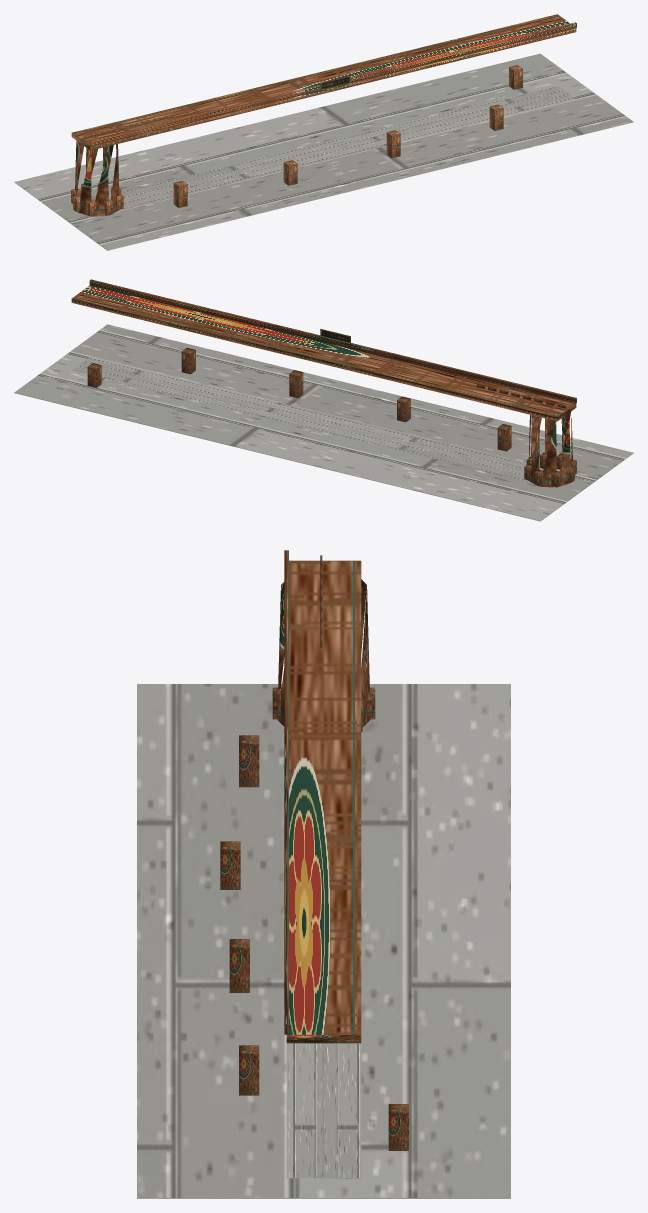
3 renders of one model, top to bottom at view 1: azimuth 30°, elevation 25°; view 2: azimuth 150°, elevation 25°; view 3: azimuth 270°, elevation 25°, orthographic. The views are drawn at different scales.
Parts seen in each view (by area): view 1: 11140_02_04536_043_01_L2__base, 11140_02_04536_043_02_L2__body, 11140_02_04536_043_06_L2__green, 11140_02_04536_043_05_L2__openings; view 2: 11140_02_04536_043_01_L2__base, 11140_02_04536_043_02_L2__body, 11140_02_04536_043_06_L2__green; view 3: 11140_02_04536_043_01_L2__base, 11140_02_04536_043_02_L2__body, 11140_02_04536_043_06_L2__green.
Part boxes in pixels (left/top/right/bottom): 11140_02_04536_043_01_L2__base: left=14, top=53, right=633, bottom=250; 11140_02_04536_043_02_L2__body: left=71, top=14, right=576, bottom=216; 11140_02_04536_043_06_L2__green: left=173, top=65, right=522, bottom=207; 11140_02_04536_043_05_L2__openings: left=83, top=114, right=181, bottom=149; 11140_02_04536_043_01_L2__base: left=14, top=324, right=633, bottom=521; 11140_02_04536_043_02_L2__body: left=71, top=279, right=576, bottom=487; 11140_02_04536_043_06_L2__green: left=87, top=348, right=511, bottom=451; 11140_02_04536_043_01_L2__base: left=137, top=684, right=510, bottom=1198; 11140_02_04536_043_02_L2__body: left=272, top=550, right=375, bottom=1043; 11140_02_04536_043_06_L2__green: left=220, top=735, right=408, bottom=1150.
Size of the model in its own units: 130 by 19.35 by 40.
4 materials, 4 textured.
